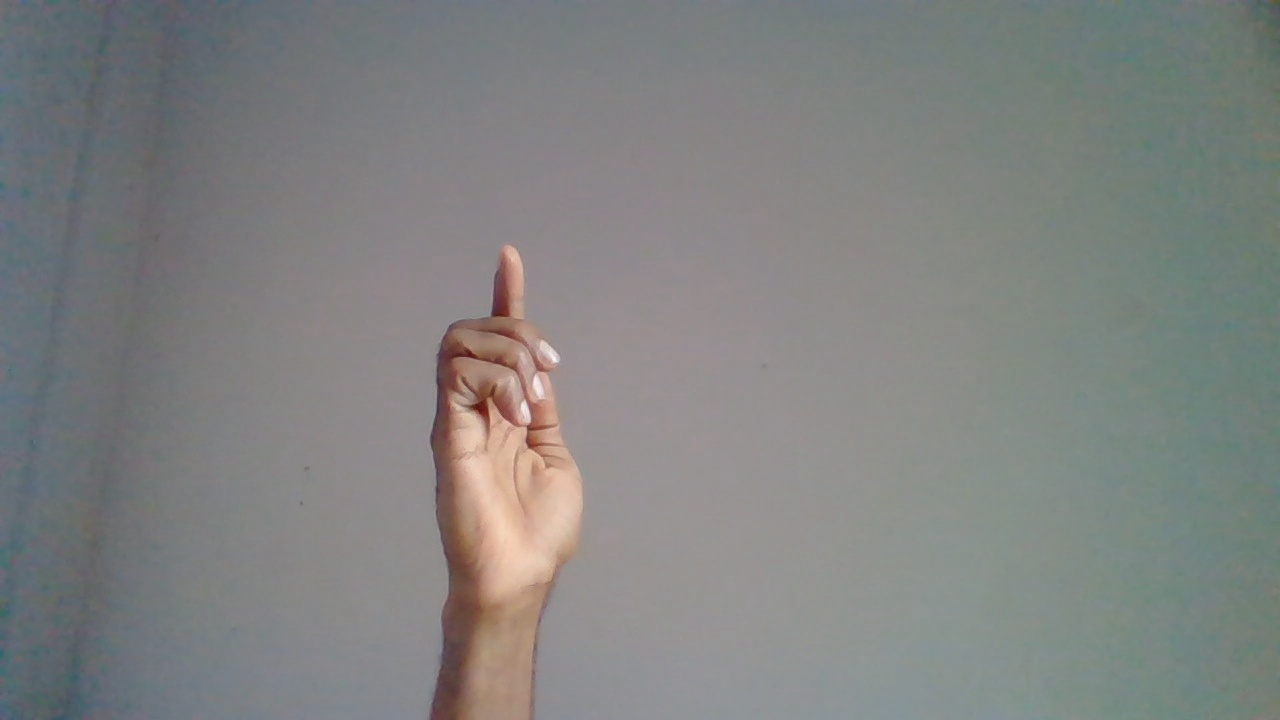qe: (427, 246, 590, 664)
